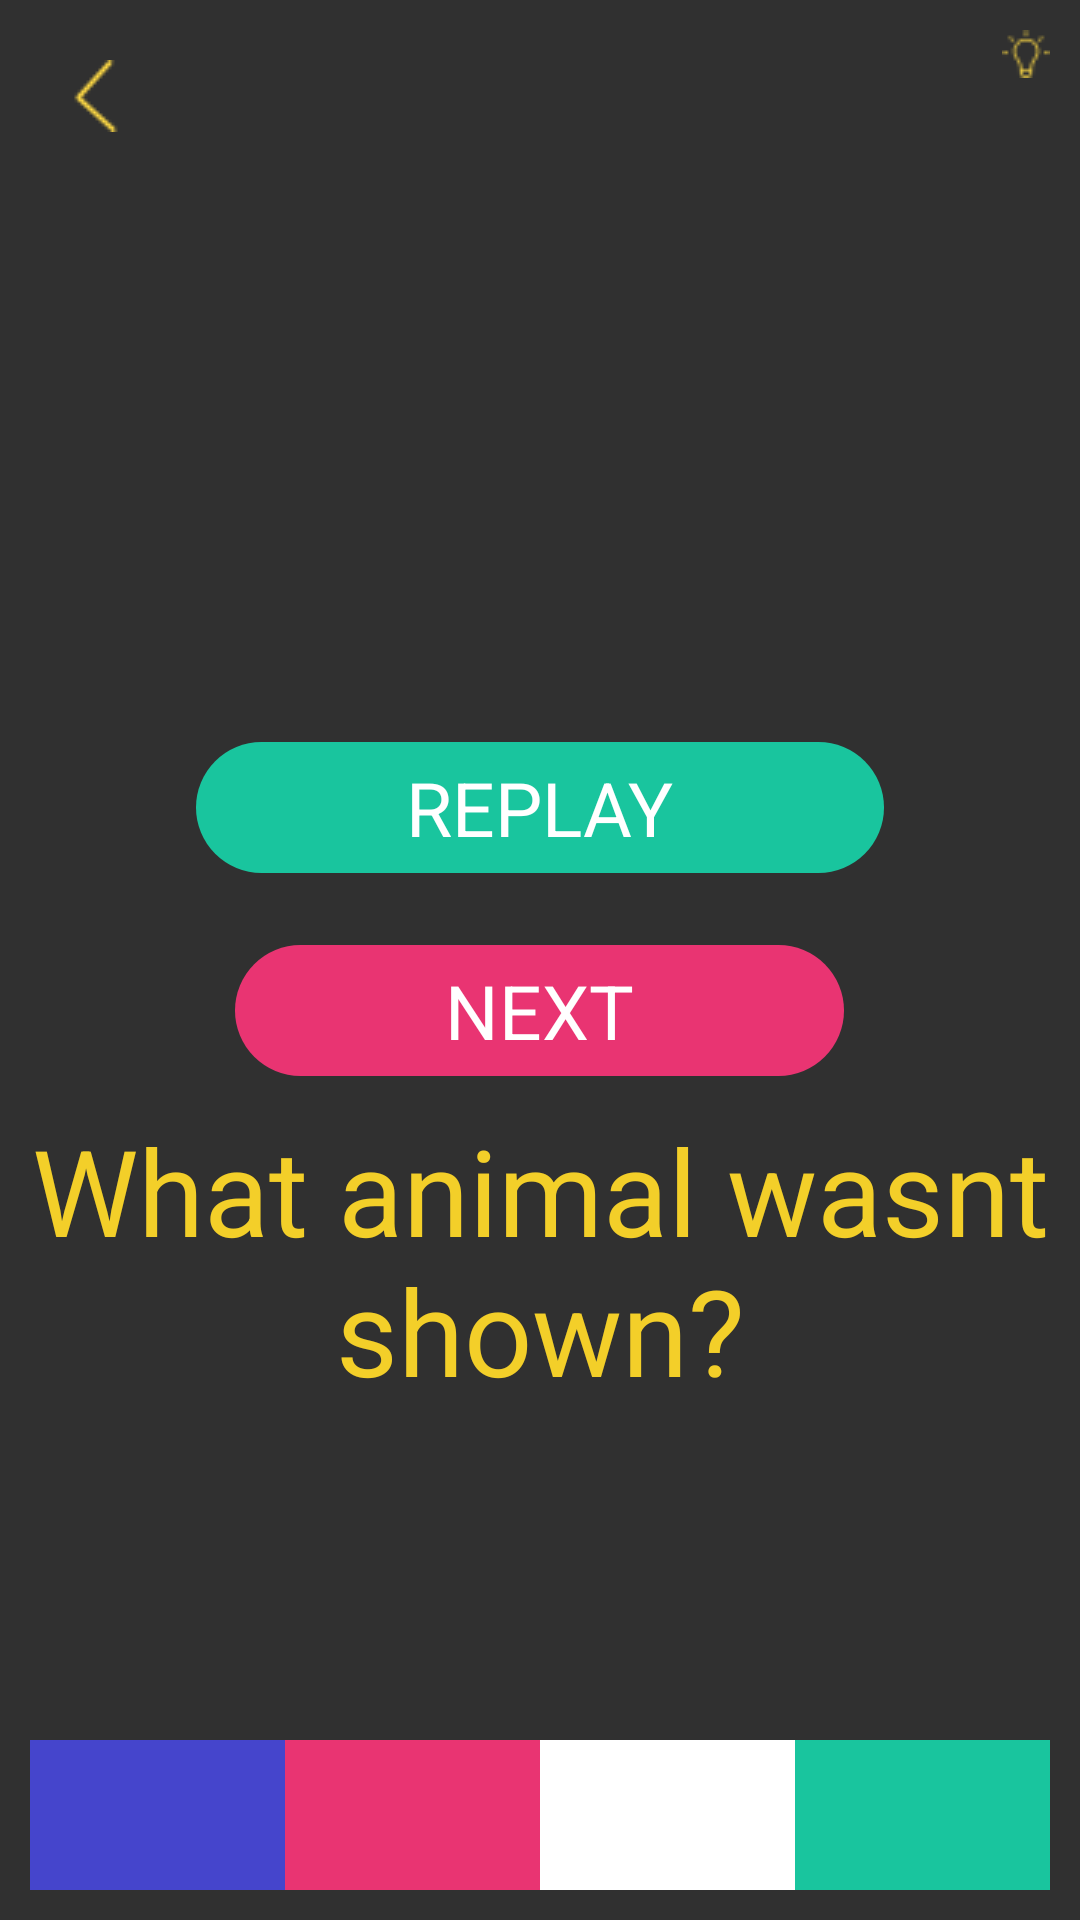

Icon click points for this 1080 x 1920 phone screenshot, format (x,y):
arrow: (95,96)
lightbulb: (1026,54)
